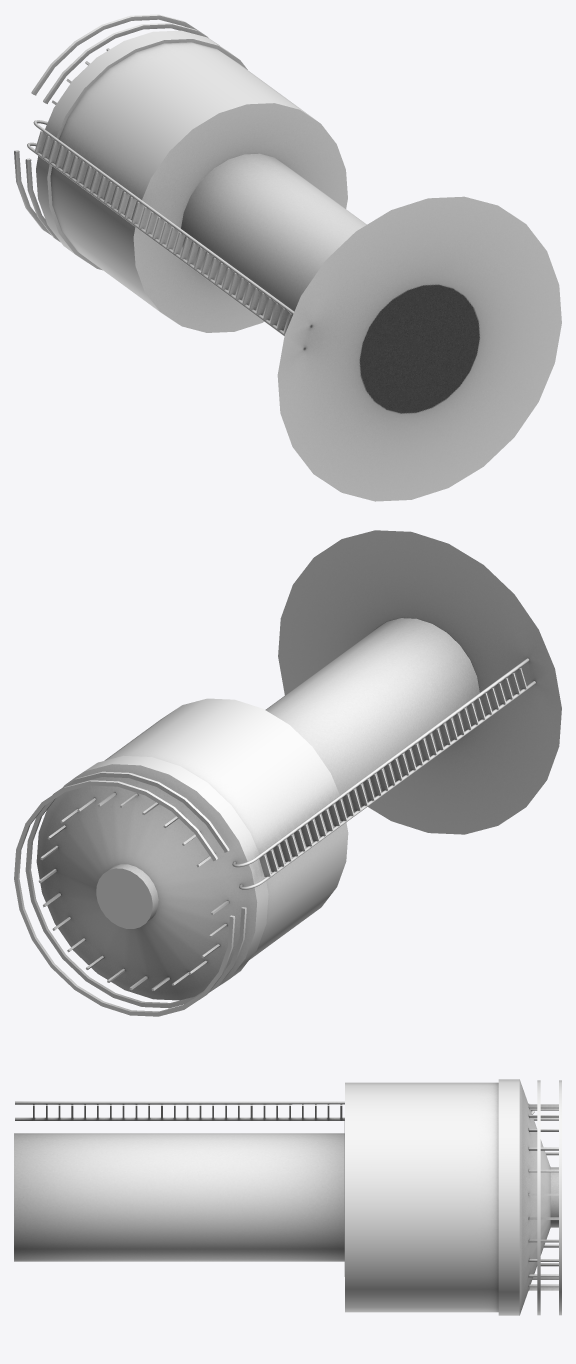
Rendered from WaterTank.fbx.
3 views of the same model, one above another, from view 1: azimuth 30°, elevation 25°; view 2: azimuth 150°, elevation 25°; view 3: azimuth 270°, elevation 25° (orthographic). The views are drawn at different scales.
Parts seen in each view (by area): view 1: Водонапорная_башня.001; view 2: Водонапорная_башня.001; view 3: Водонапорная_башня.001.
Part boxes in pixels (x1,y1,x2,y2): Водонапорная_башня.001: (14, 14, 561, 501); Водонапорная_башня.001: (14, 530, 561, 1016); Водонапорная_башня.001: (14, 1079, 561, 1315).
Size of the model in its own units: 104 by 187 by 104.
